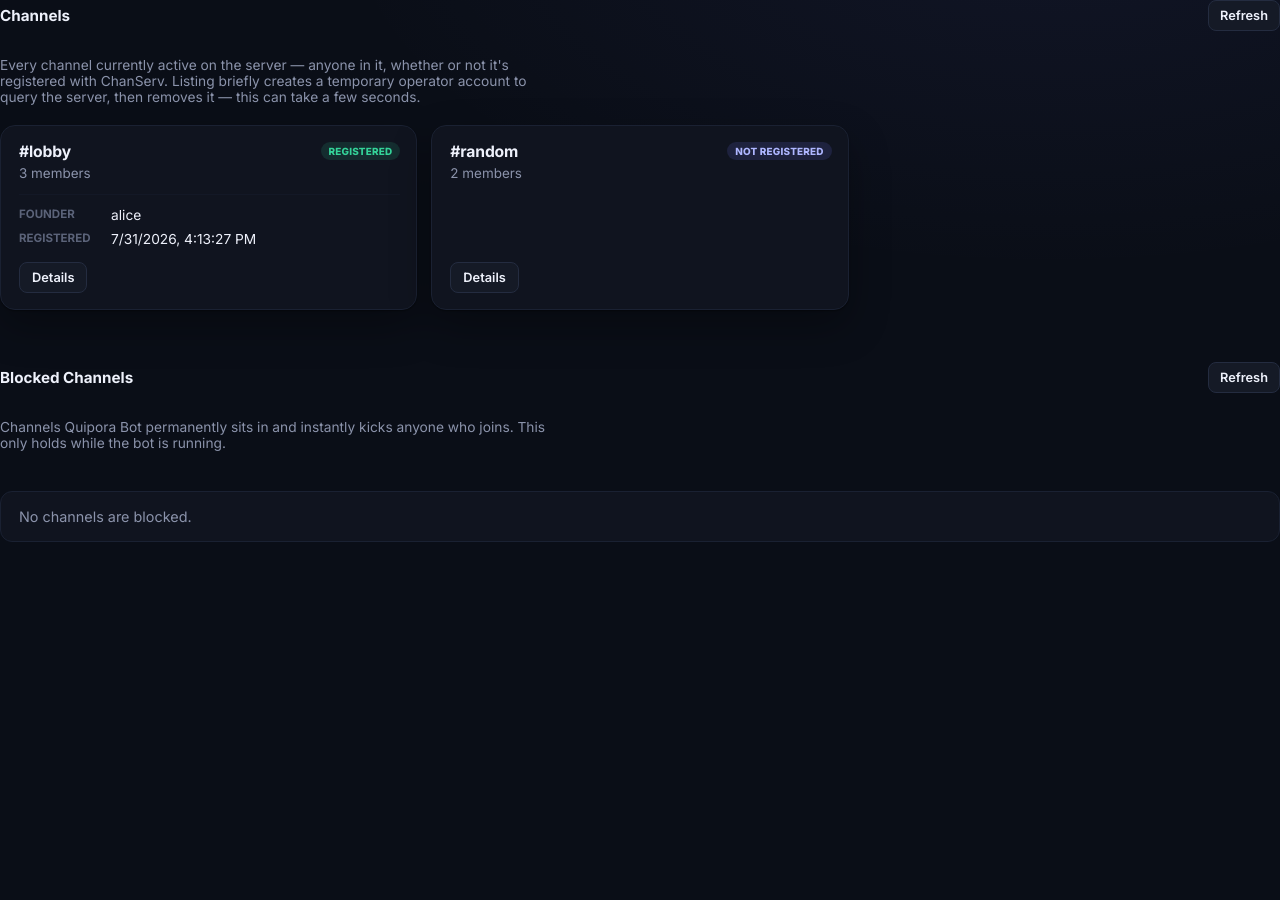
Test case: ChannelsPanel › opening Details loads and shows topic, founder, and members
Expected: the heading "#lobby" is shown, x1=19 y1=142 x2=71 y2=161
Click the button "Details" below "7/31/2026, 4:13:27 PM" at (53, 278), box x1=19 y1=262 x2=88 y2=293
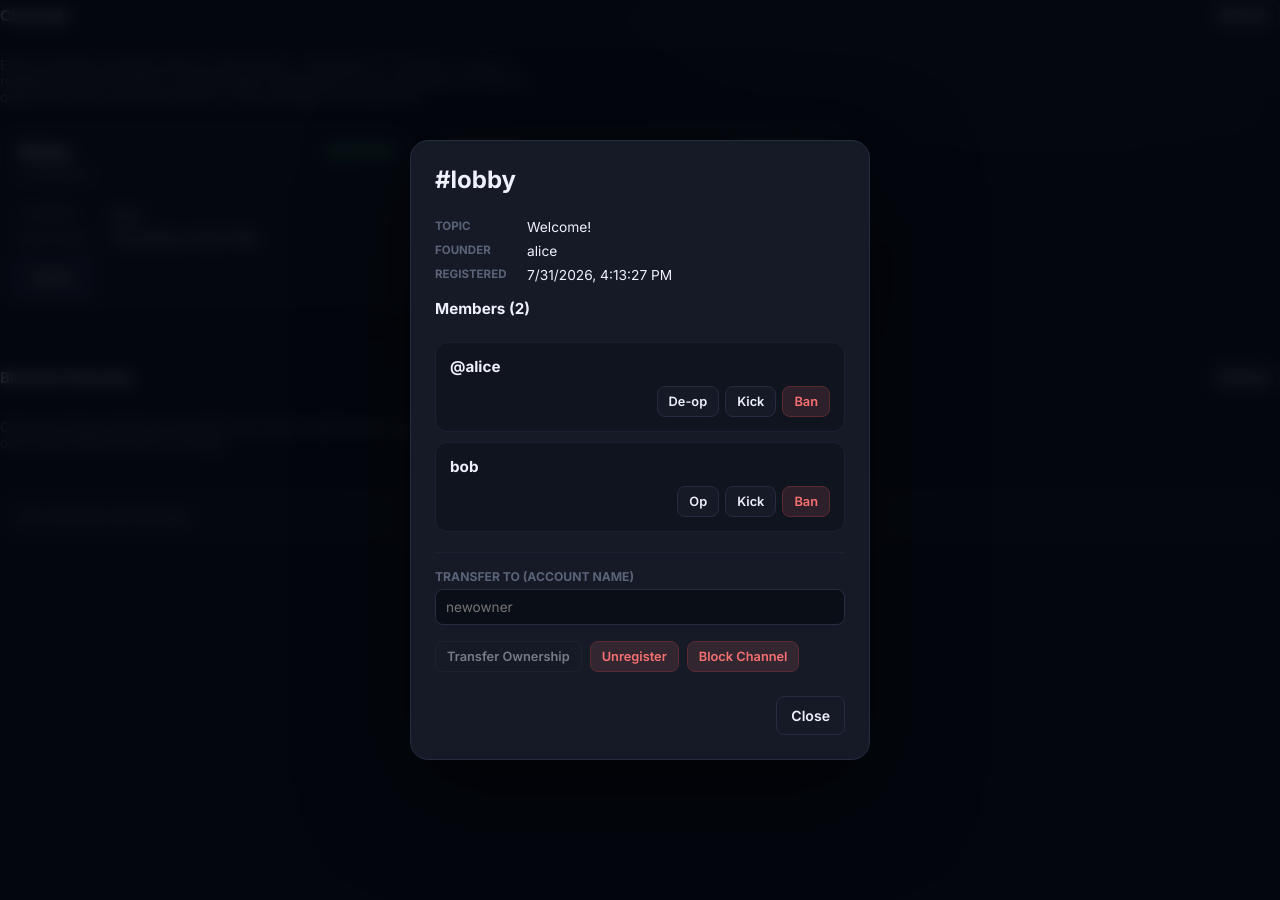
Result: the text "Welcome!" is shown at x1=527 y1=219 x2=591 y2=235
Result: the heading "Members (2)" is shown at x1=435 y1=299 x2=530 y2=318
Result: the text "@alice" is shown at x1=450 y1=357 x2=500 y2=376
